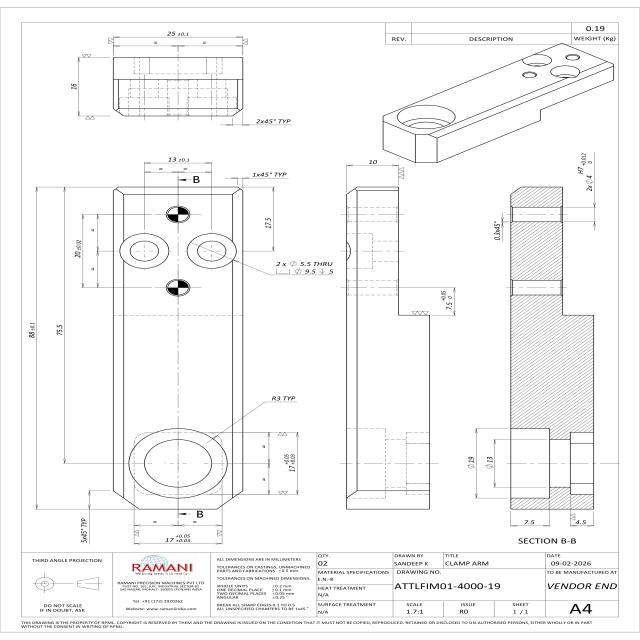dimension: (274, 260, 334, 274), (576, 152, 594, 192), (254, 118, 294, 125), (282, 453, 296, 472), (440, 290, 453, 310), (251, 171, 288, 178), (164, 534, 192, 542), (74, 239, 84, 259), (80, 518, 88, 543), (270, 395, 297, 402), (166, 30, 192, 37), (493, 220, 501, 241), (484, 456, 496, 470), (166, 156, 191, 162), (28, 321, 36, 339), (466, 456, 476, 470), (264, 217, 273, 229), (55, 324, 64, 336), (574, 519, 588, 526), (522, 519, 536, 525), (69, 82, 78, 91), (368, 159, 379, 165)
